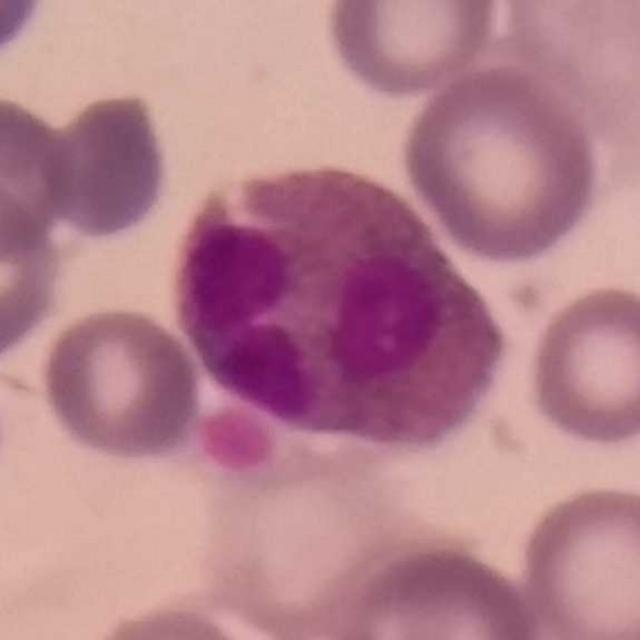Eosinophil: (168, 156, 506, 449)
Platelets: (193, 404, 279, 481)
RBC: (396, 59, 606, 267), (37, 301, 205, 465), (312, 535, 551, 640), (38, 87, 175, 244), (498, 0, 640, 151), (513, 477, 640, 640), (521, 279, 640, 452), (320, 0, 506, 99), (0, 87, 82, 258), (0, 174, 67, 370), (73, 600, 283, 640), (0, 1, 55, 70)
